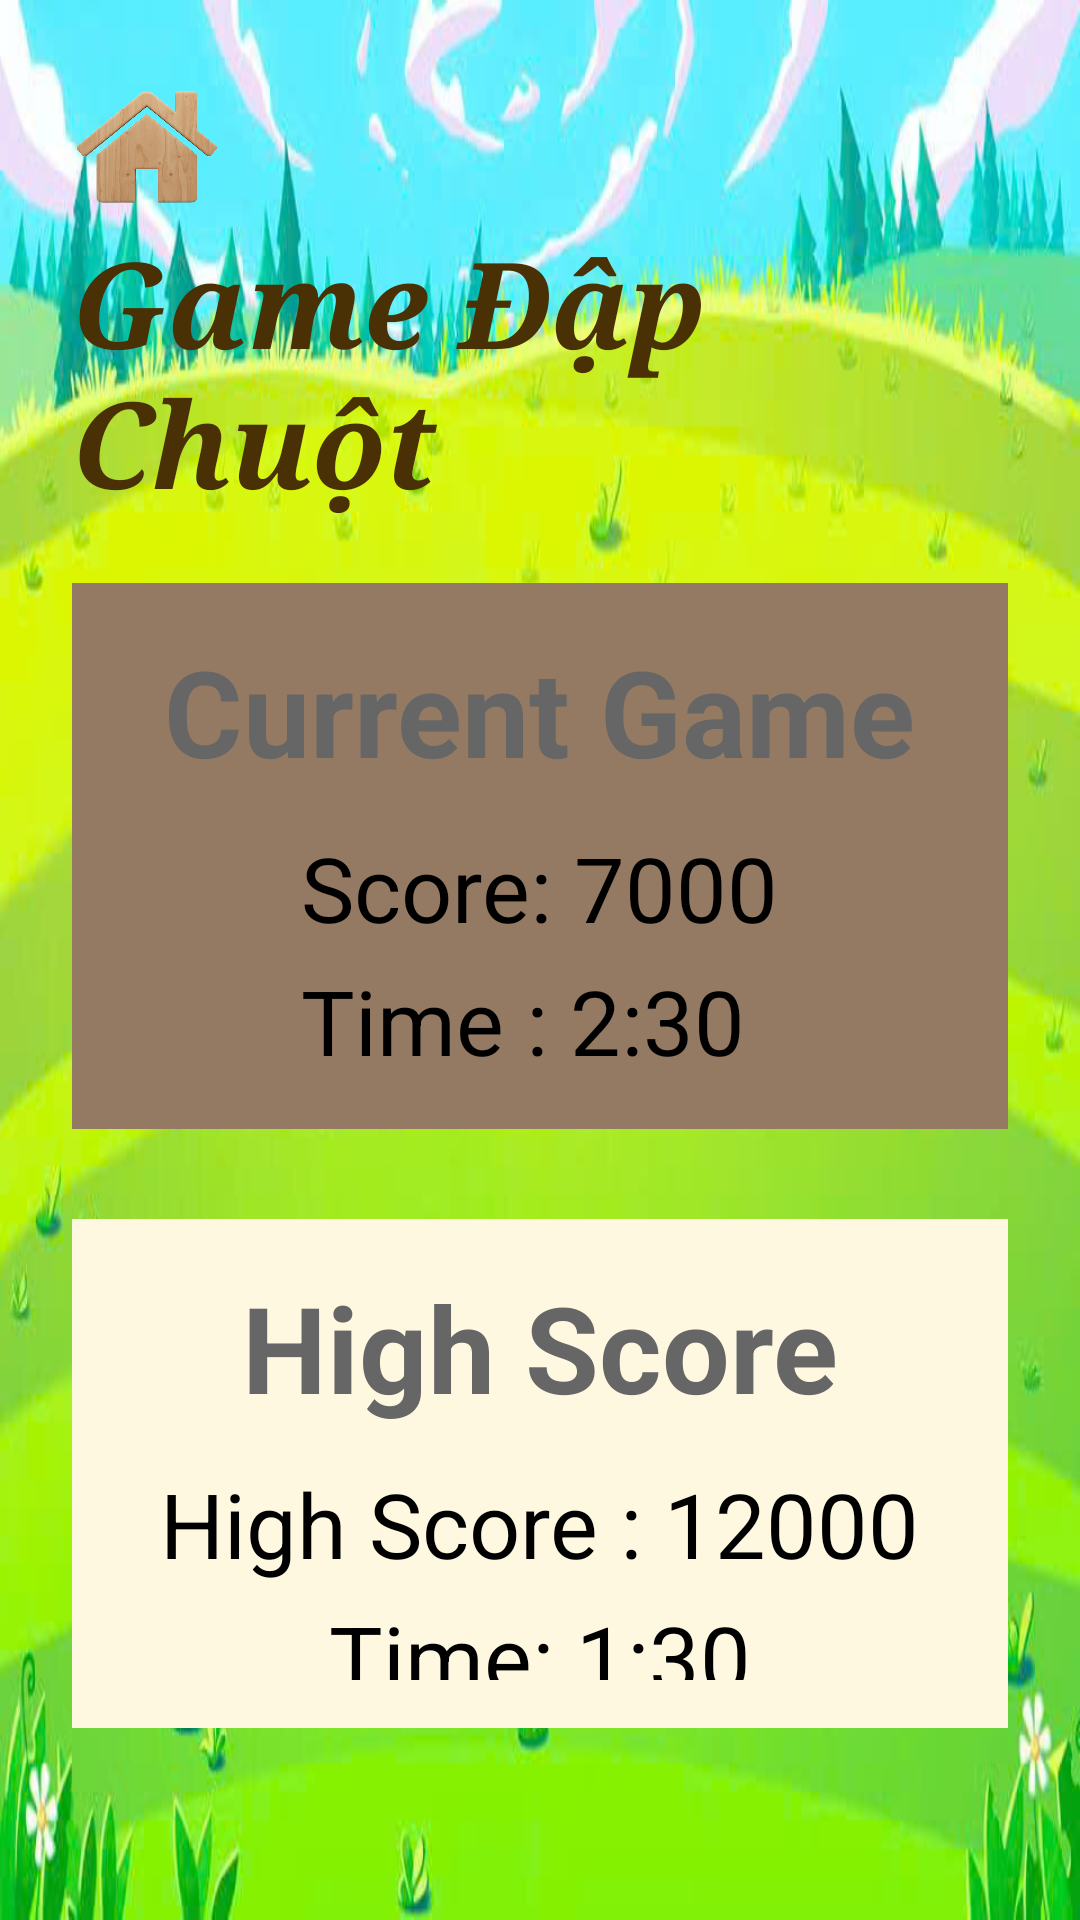

Point at icon controls on the screen. Image size 1080*1920, points as [x,y].
home: [147,147]
